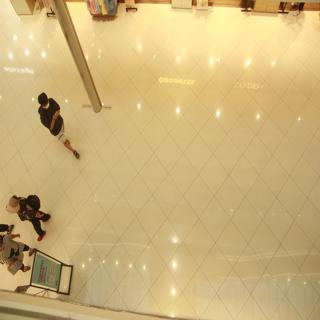person: (34, 84, 82, 166), (4, 185, 60, 237)
